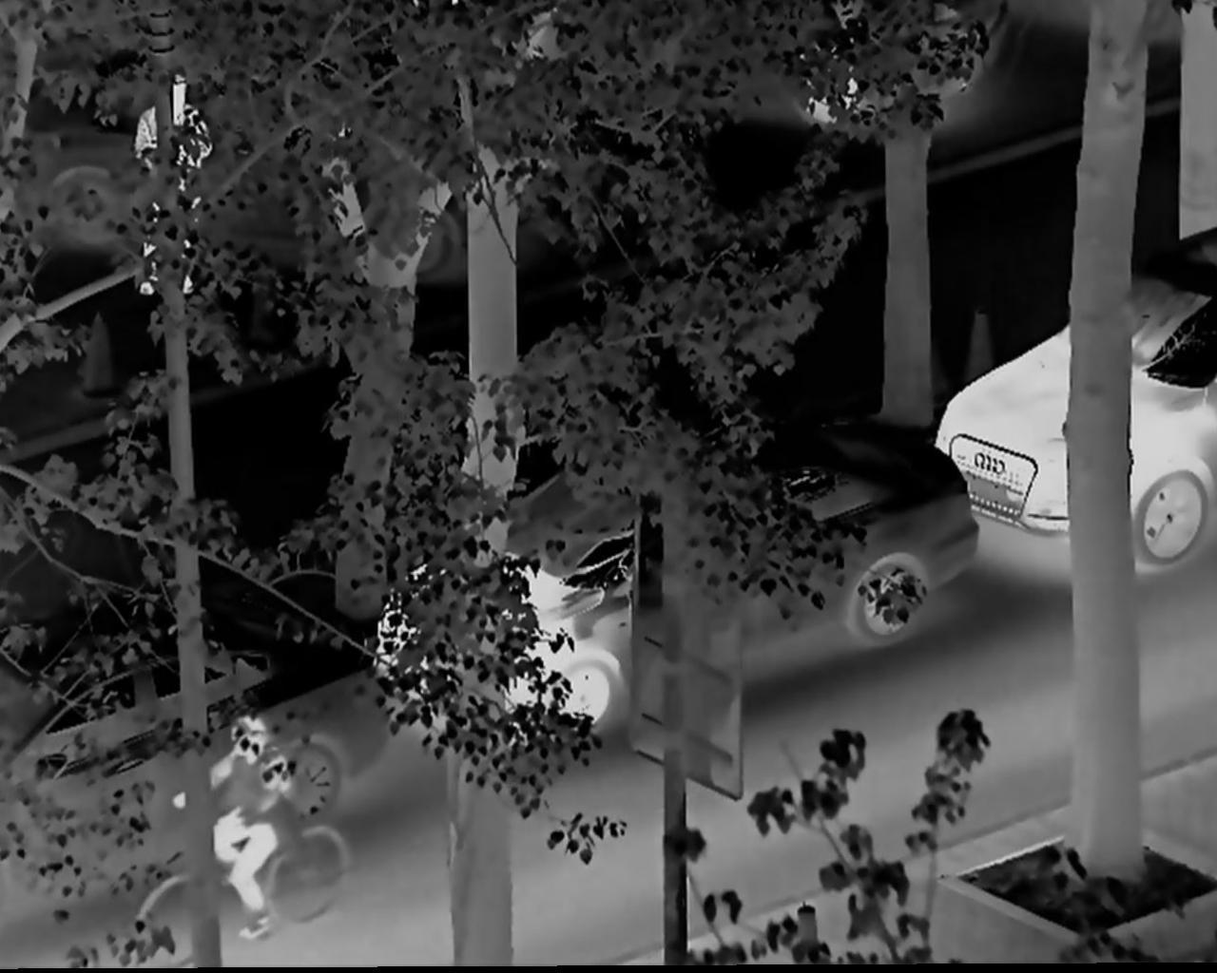person: (184, 714, 295, 947), (132, 72, 211, 324)
